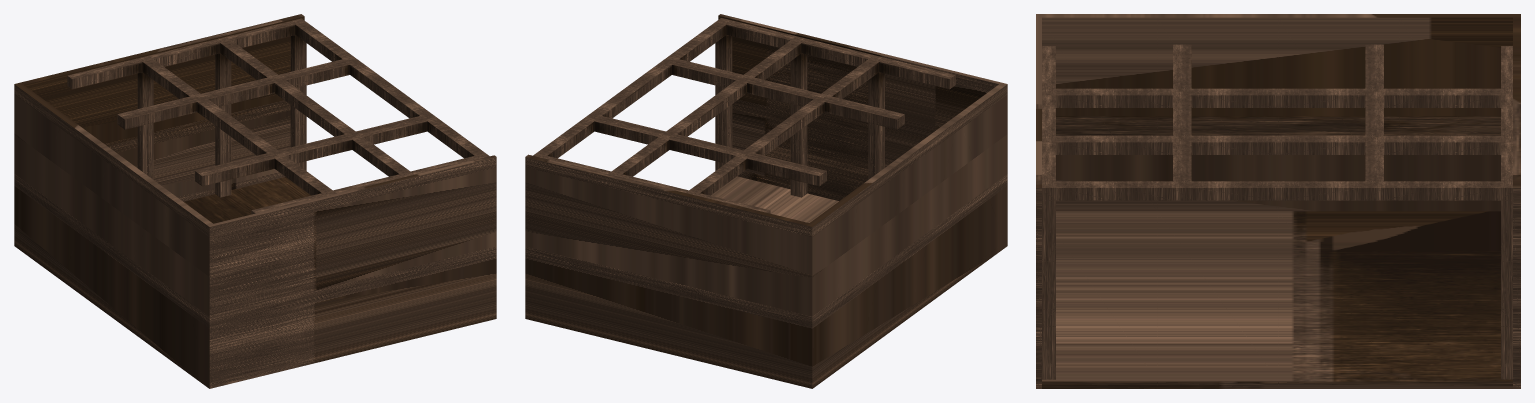
Rendered from Room.fbx.
3 renders of one model, left to right at view 1: azimuth 30°, elevation 25°; view 2: azimuth 150°, elevation 25°; view 3: azimuth 270°, elevation 25°, orthographic. The views are drawn at different scales.
Parts seen in each view (by area): view 1: 立方体.191, 立方体.001, 立方体.002, 立方体.003; view 2: 立方体.191, 立方体.001, 立方体.002, 立方体.003; view 3: 立方体.191, 立方体.003, 立方体.001, 立方体.002.
Boxes of the visible parts, box(x1,y1,x2,y2) form: 立方体.191: box(14, 14, 496, 388); 立方体.001: box(67, 56, 336, 214); 立方体.002: box(147, 37, 413, 197); 立方体.003: box(222, 18, 489, 175); 立方体.191: box(525, 14, 1007, 388); 立方体.001: box(686, 55, 955, 213); 立方体.002: box(608, 36, 875, 197); 立方体.003: box(533, 18, 797, 173); 立方体.191: box(1036, 14, 1520, 388); 立方体.003: box(1042, 137, 1512, 379); 立方体.001: box(1042, 44, 1512, 107); 立方体.002: box(1042, 91, 1512, 154).
Bounding box in the file's own units: 782 × 421 × 921.
